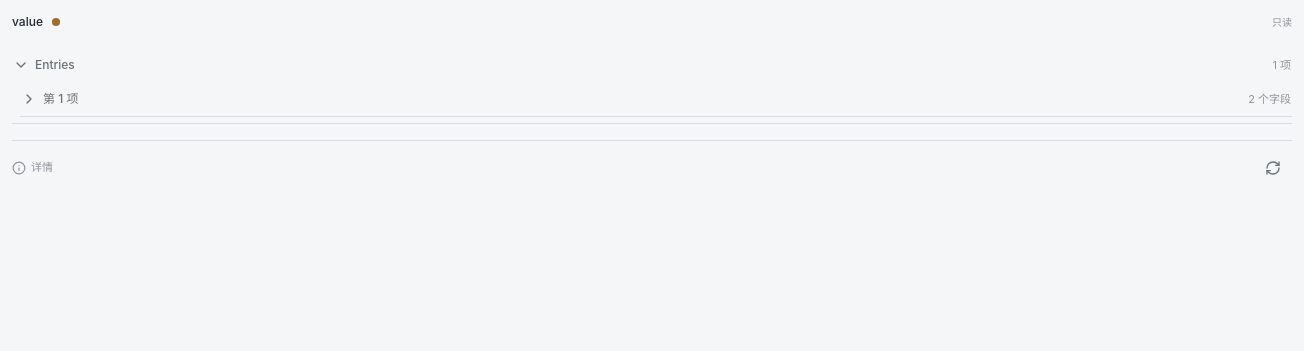
Test case: unknown node Variable rendering › shows nested readonly values as full-width groups and expands array objects on demand
Expected: the text "Example" is not shown
Step 1. Click the button "第 1 项 2 个字段" → (61, 98), box [20, 82, 1292, 116]
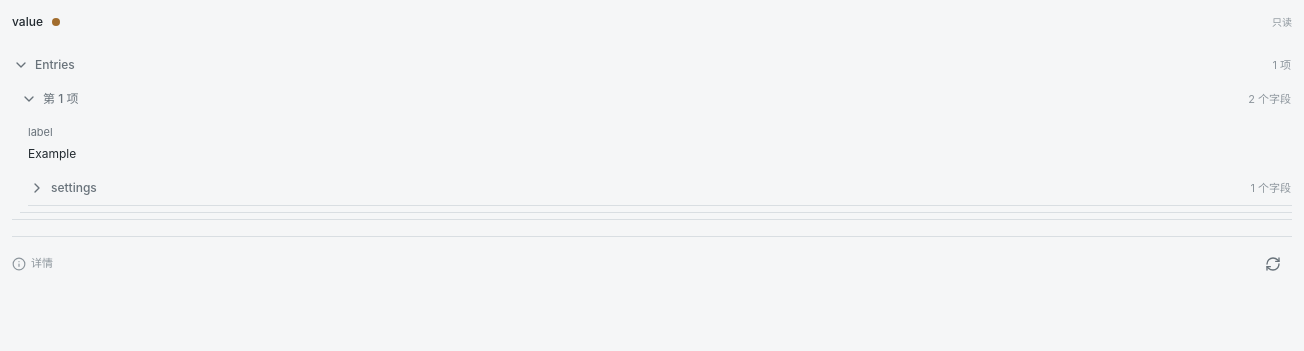
Now the text "Example" is shown, box [28, 146, 76, 160]
Step 2. Click the button "settings 1 个字段" → (74, 188), box [28, 171, 1292, 205]
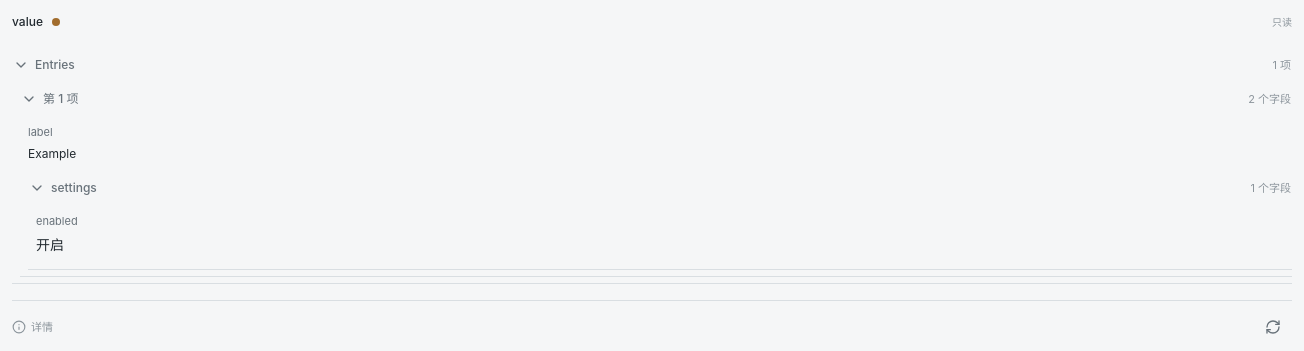
Now the text "开启" is shown, box [36, 234, 64, 255]
Step 3. Click the button "第 1 项 2 个字段" → (61, 98), box [20, 82, 1292, 116]
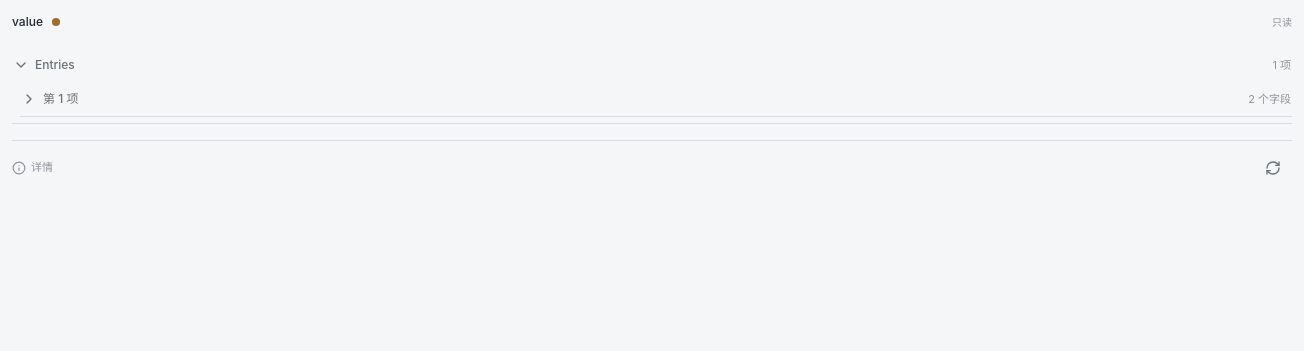
Now the text "Example" is gone
